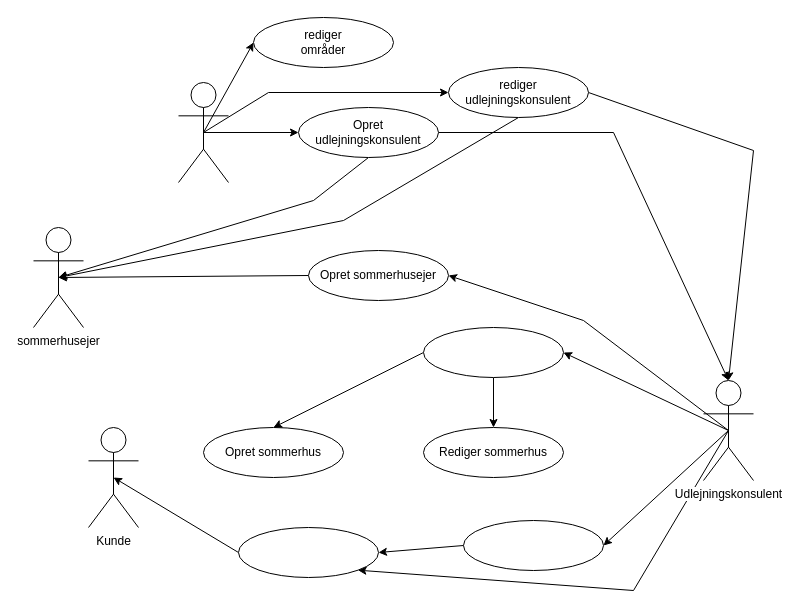
Some shapes in this 799 by 616 pixel diagram are drawn without their labels. Each missing label, with the centre of its shape:
"Administrator" goes at (x=203, y=132).
"Opret reservation" goes at (x=533, y=545).
"Rediger reservation" goes at (x=308, y=552).
"Rediger sommerhusejer" goes at (x=493, y=352).
